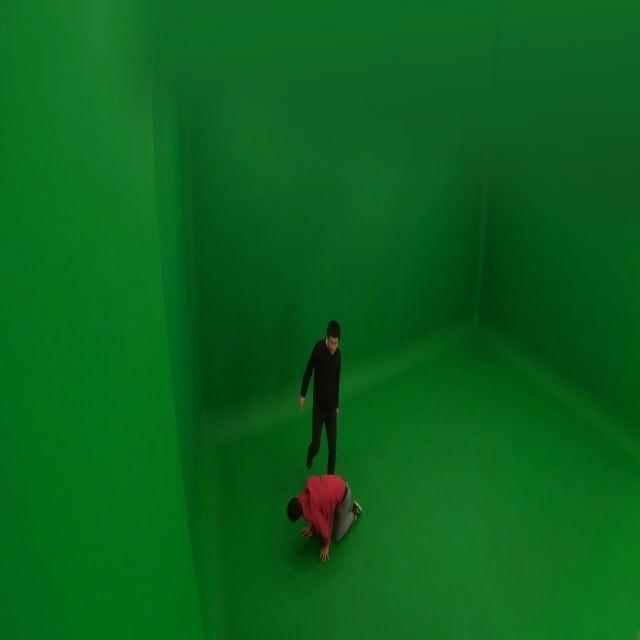fight: (282, 317, 367, 562)
